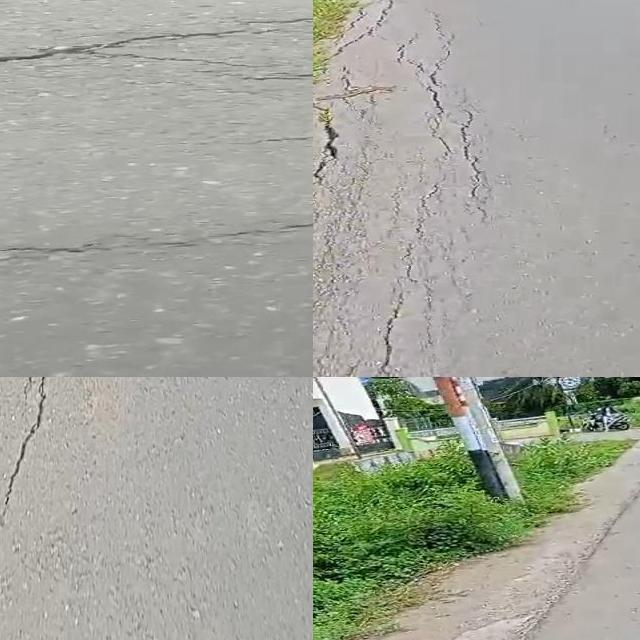Melintang: (0, 9, 313, 80), (0, 212, 313, 276)
Memanjang: (0, 377, 55, 524), (420, 22, 461, 189)
Pinggir: (313, 0, 398, 83)
